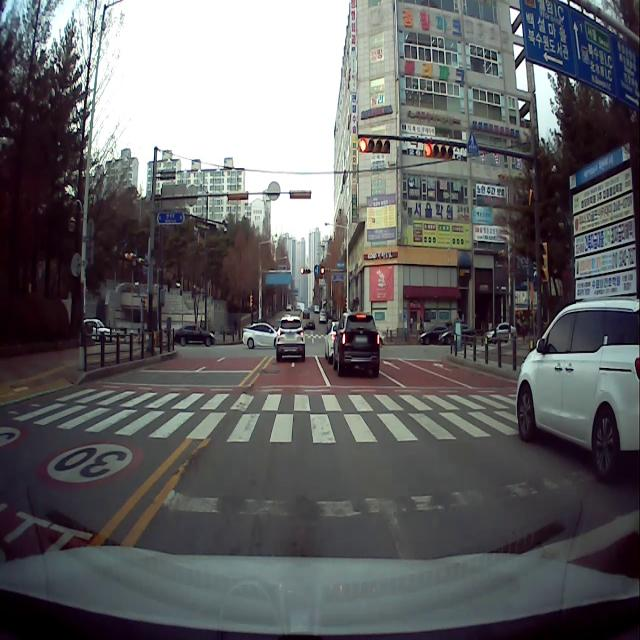Red Light: (423, 136, 435, 162), (356, 136, 368, 156)
